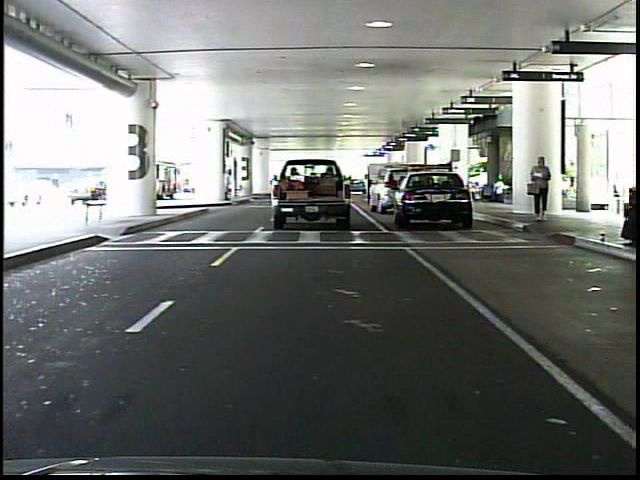person: (528, 149, 556, 227)
